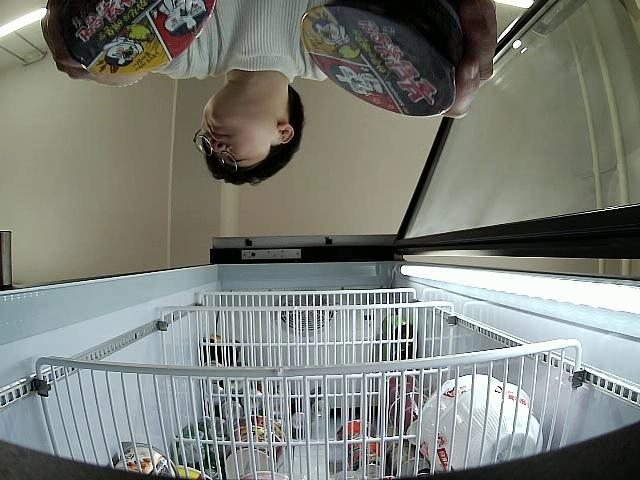00_hand: (443, 0, 496, 122), (40, 0, 99, 80)
08_buldak_S: (301, 0, 466, 116), (56, 0, 217, 87)
